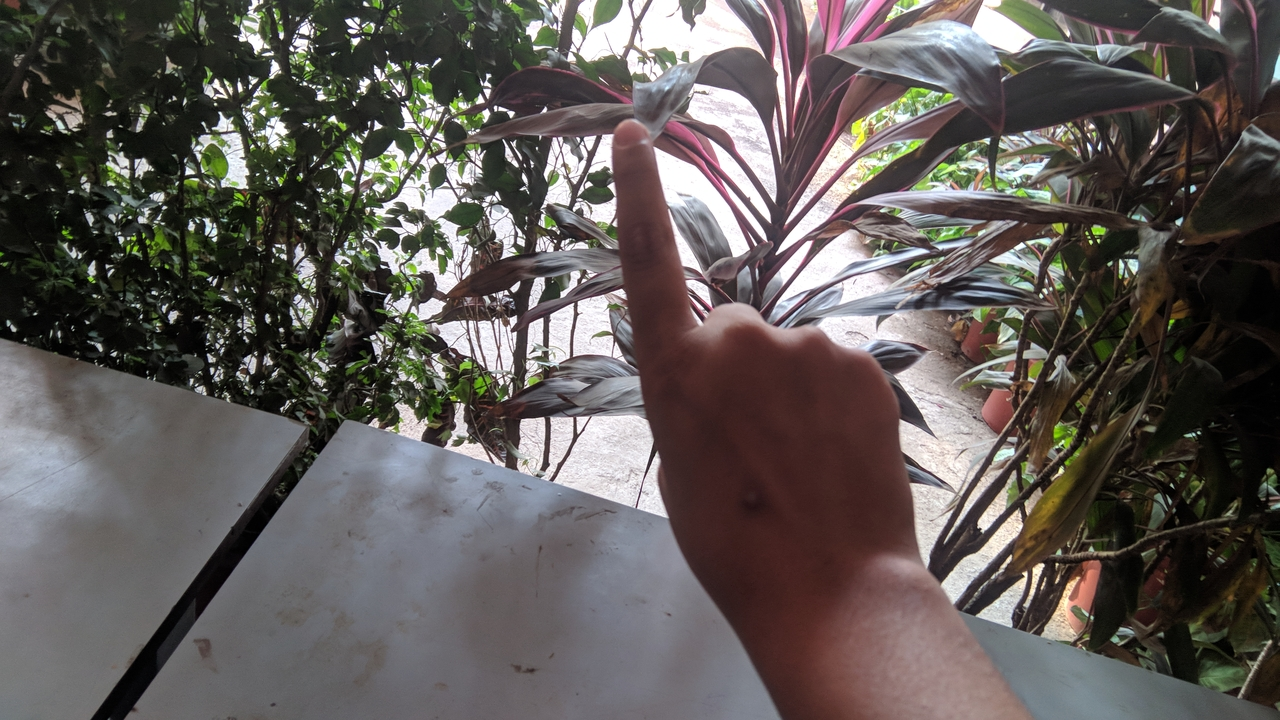fingertip: (610, 114, 658, 158)
